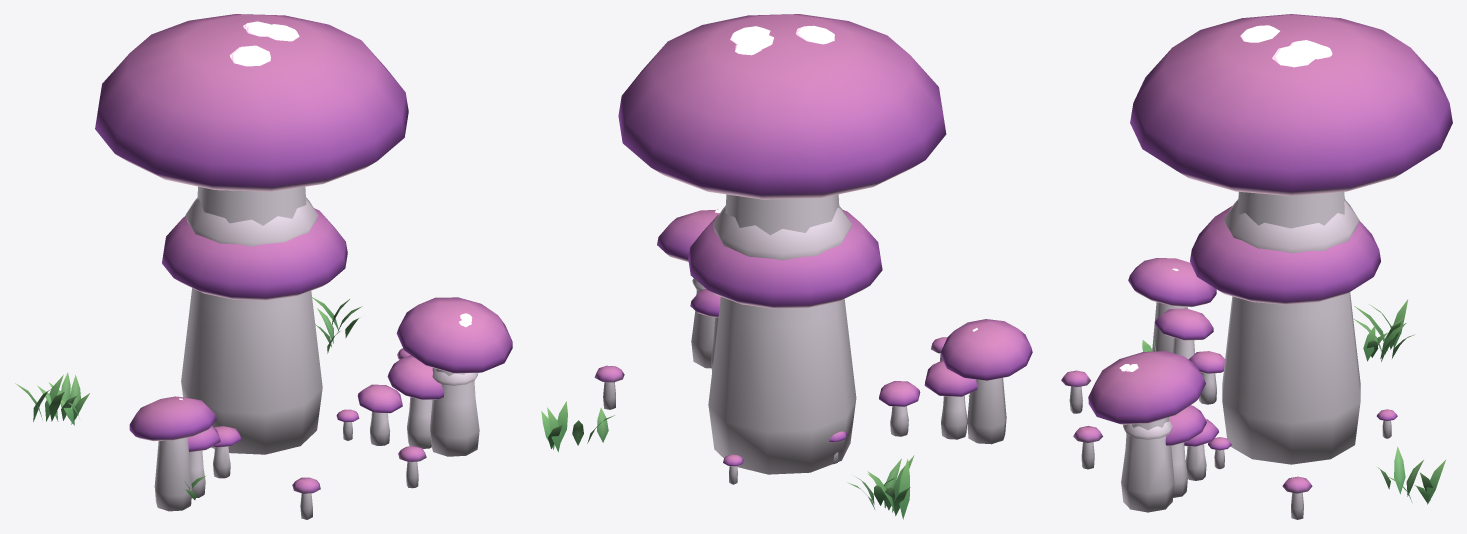
The picture shows the model from 3 angles, left to right: view 1: azimuth 30°, elevation 25°; view 2: azimuth 150°, elevation 25°; view 3: azimuth 270°, elevation 25°; orthographic projection. The views are drawn at different scales.
Parts seen in each view (by area): view 1: stage3, stage2, stage1; view 2: stage3, stage2, stage1, stage0; view 3: stage3, stage2, stage1, stage0.
Part boxes in pixels (x1=…): stage3: x1=15, y1=14, x2=512, y2=519; stage2: x1=37, y1=208, x2=444, y2=498; stage1: x1=48, y1=382, x2=402, y2=478; stage3: x1=541, y1=14, x2=1032, y2=519; stage2: x1=572, y1=210, x2=977, y2=510; stage1: x1=867, y1=381, x2=920, y2=505; stage0: x1=723, y1=395, x2=969, y2=484; stage3: x1=1061, y1=14, x2=1452, y2=519; stage2: x1=1154, y1=206, x2=1423, y2=497; stage1: x1=1184, y1=323, x2=1406, y2=480; stage0: x1=1142, y1=339, x2=1397, y2=469.
Size of the model in its own units: 1.04 by 1.08 by 0.9503.
